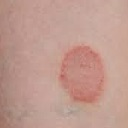Impetigo: (59, 44, 110, 102)
